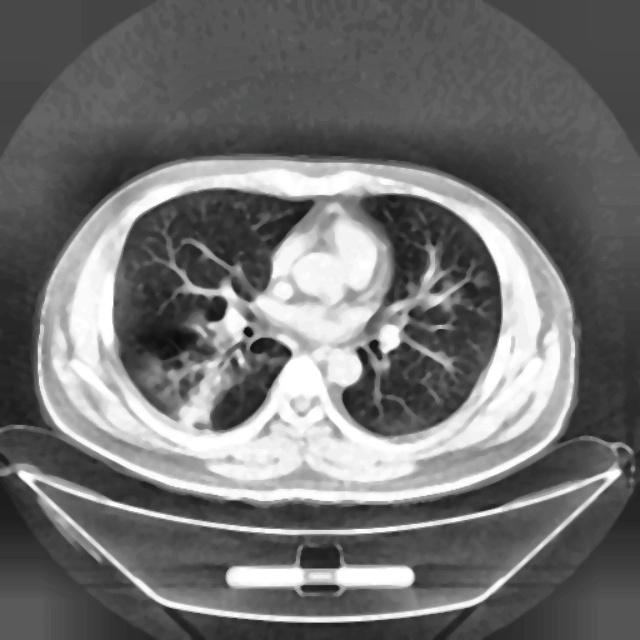covid: (35, 152, 579, 506)
